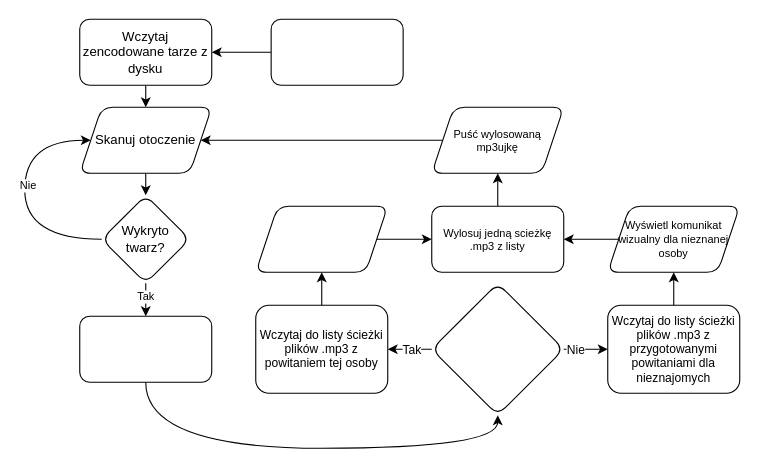
This 759x468 diagram has some shape labels left out. Here are the shapes that lost their labels. From the top down, the centre of each, then its label:
At (x=336, y=51): "Start".
At (x=321, y=238): "Wyświetl komunikat wizualny dla tej osoby".
At (x=145, y=348): "Encoduj wykrytą twarz i porównaj z wczytanymi twarzami z dysku".
At (x=497, y=348): "Znaleziono twarz w bazie?".
